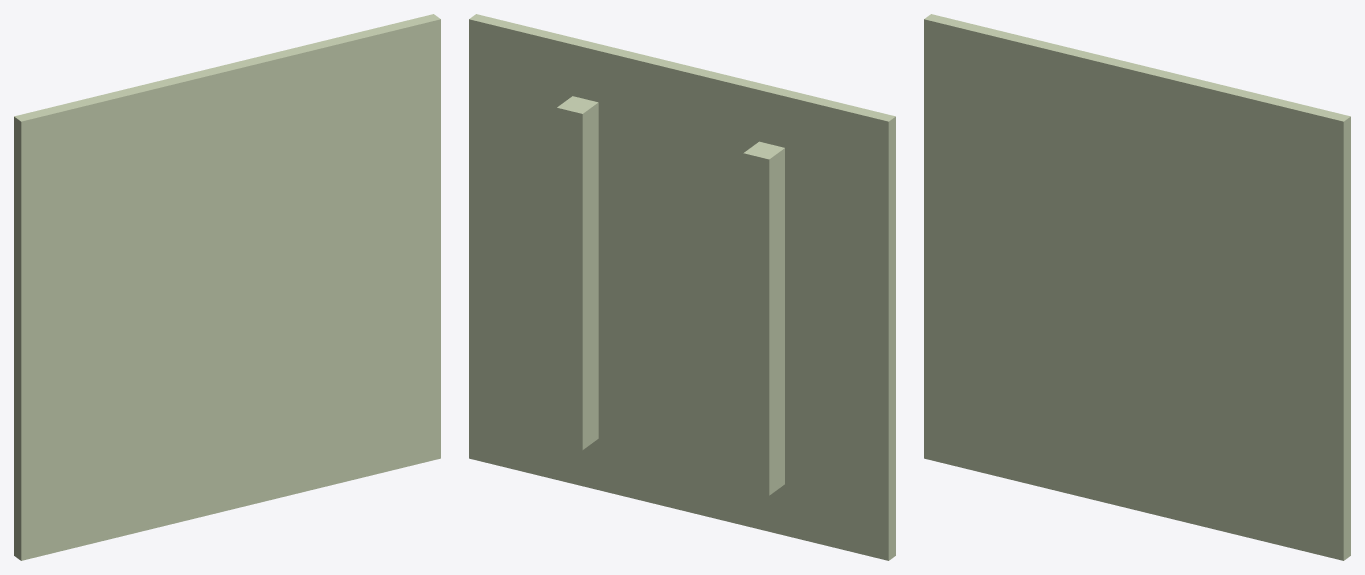
Rendered from furniture_sign_back_square.glb.
3 views of the same model, side by side, from view 1: azimuth 30°, elevation 25°; view 2: azimuth 150°, elevation 25°; view 3: azimuth 330°, elevation 25° (orthographic).
Visible parts, largest first — view 1: back_plate; view 2: back_plate, stiffener_1, stiffener_0; view 3: back_plate.
Part boxes in pixels (left/top/right/bottom): back_plate: left=14, top=14, right=440, bottom=560; back_plate: left=469, top=14, right=895, bottom=560; stiffener_1: left=556, top=96, right=598, bottom=450; stiffener_0: left=743, top=141, right=784, bottom=495; back_plate: left=924, top=14, right=1350, bottom=560.
Bounding box in the file's own units: 0.81 × 0.81 × 0.077.
